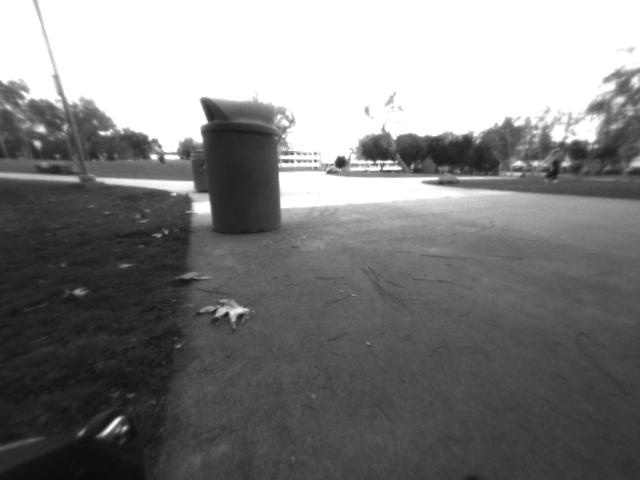trashcan: (193, 89, 298, 244)
